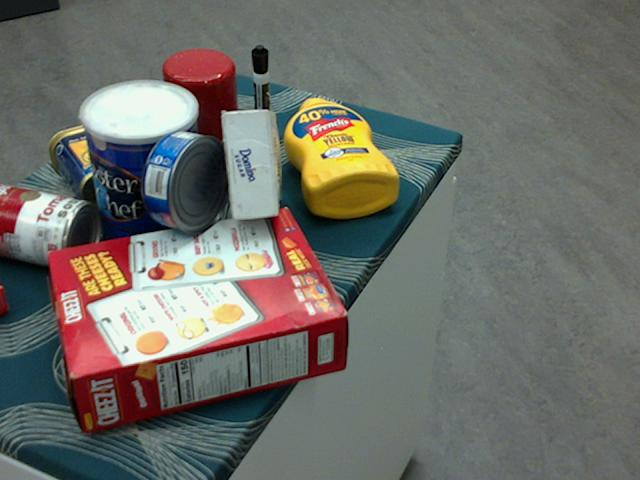cracker_box: (49, 207, 347, 431)
gelatin_box: (0, 283, 10, 314)
large_marker: (251, 44, 270, 149)
master_chef_can: (80, 82, 204, 265)
mug: (161, 50, 242, 148)
mustard_bottle: (283, 96, 399, 218)
potted_meat_can: (48, 114, 172, 211)
sugar_box: (226, 109, 278, 220)
tomato_soup_can: (0, 180, 100, 271)
tuna_fish_can: (141, 129, 232, 232)
